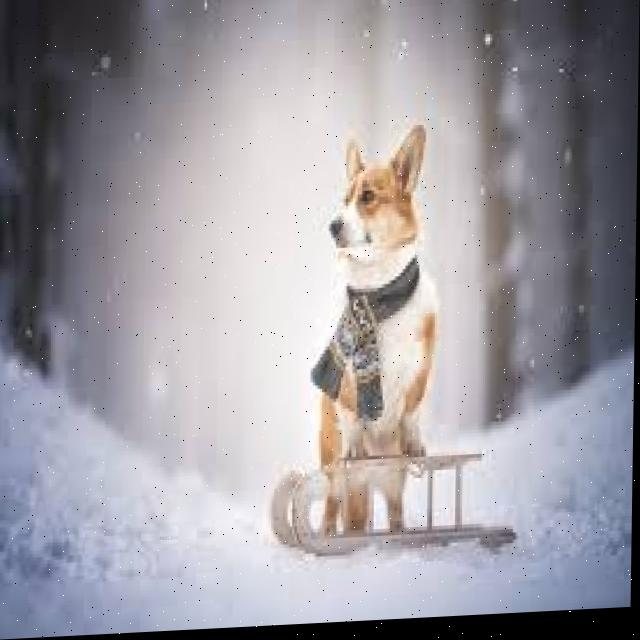CORGI: (314, 122, 440, 542)
